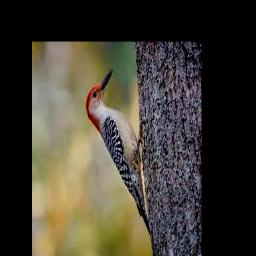Woodpecker: (86, 69, 151, 236)
